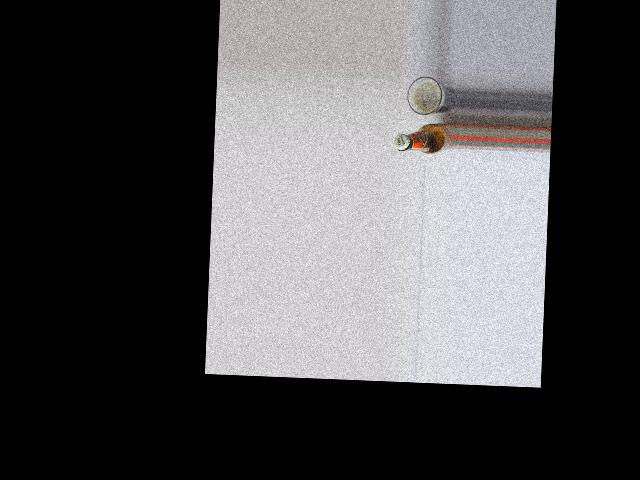beer: (394, 120, 452, 154)
